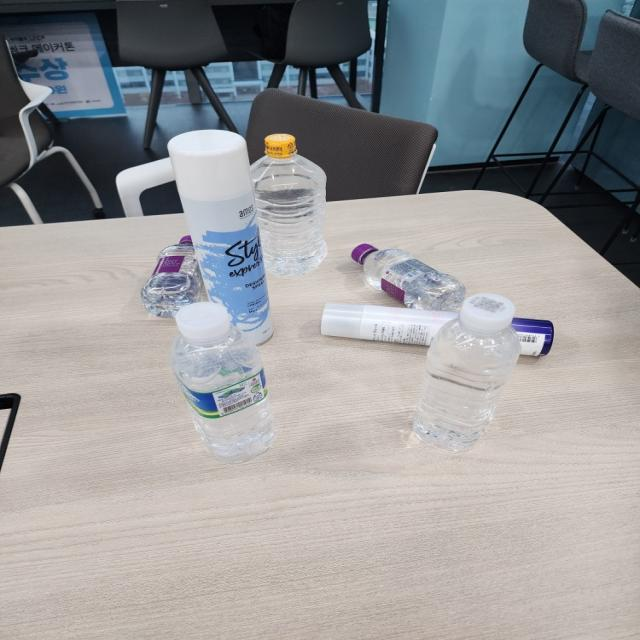spray: (165, 127, 271, 345), (316, 300, 556, 361)
water: (160, 300, 274, 461), (416, 294, 525, 450), (253, 134, 330, 273), (348, 239, 466, 309), (143, 232, 204, 320)
